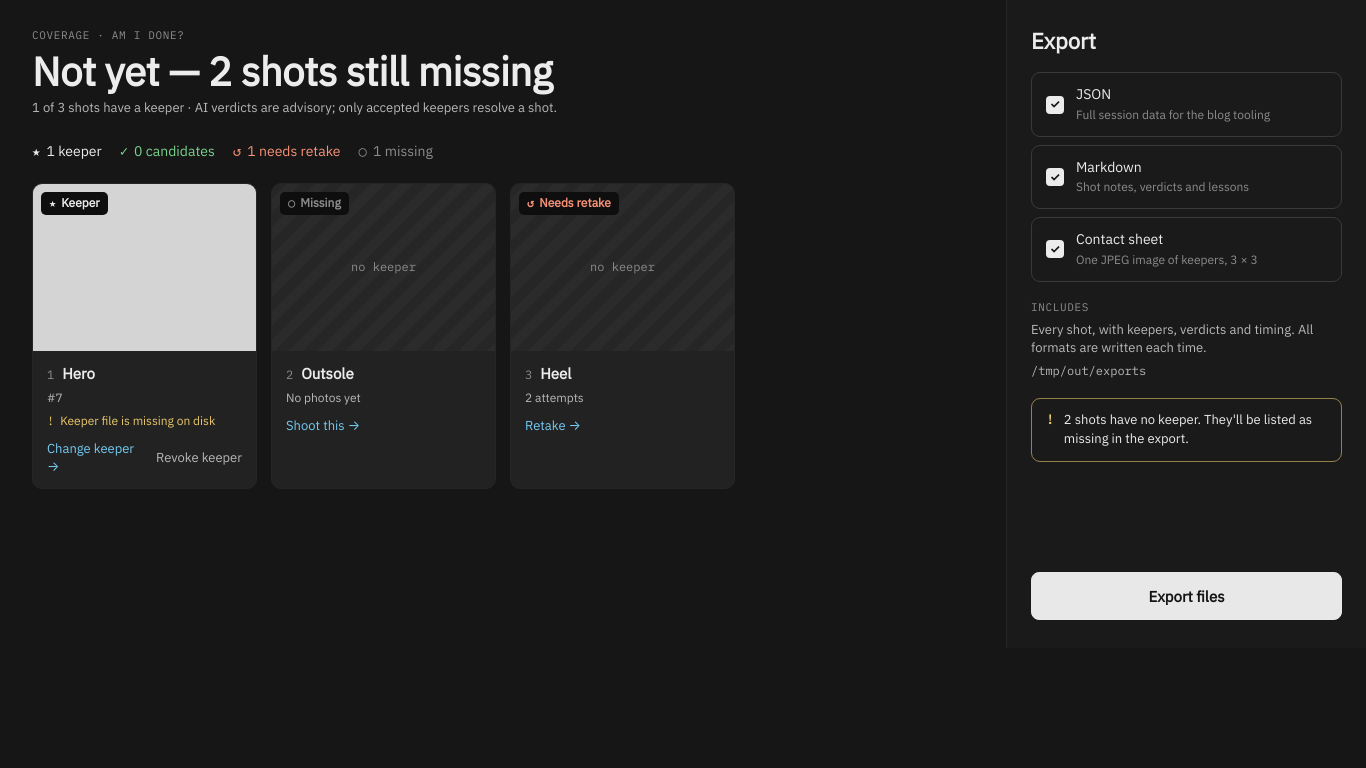
CoverageTab › lists the files the export wrote
Click the button "Export files": point(1186, 596) [1031,572,1342,620]
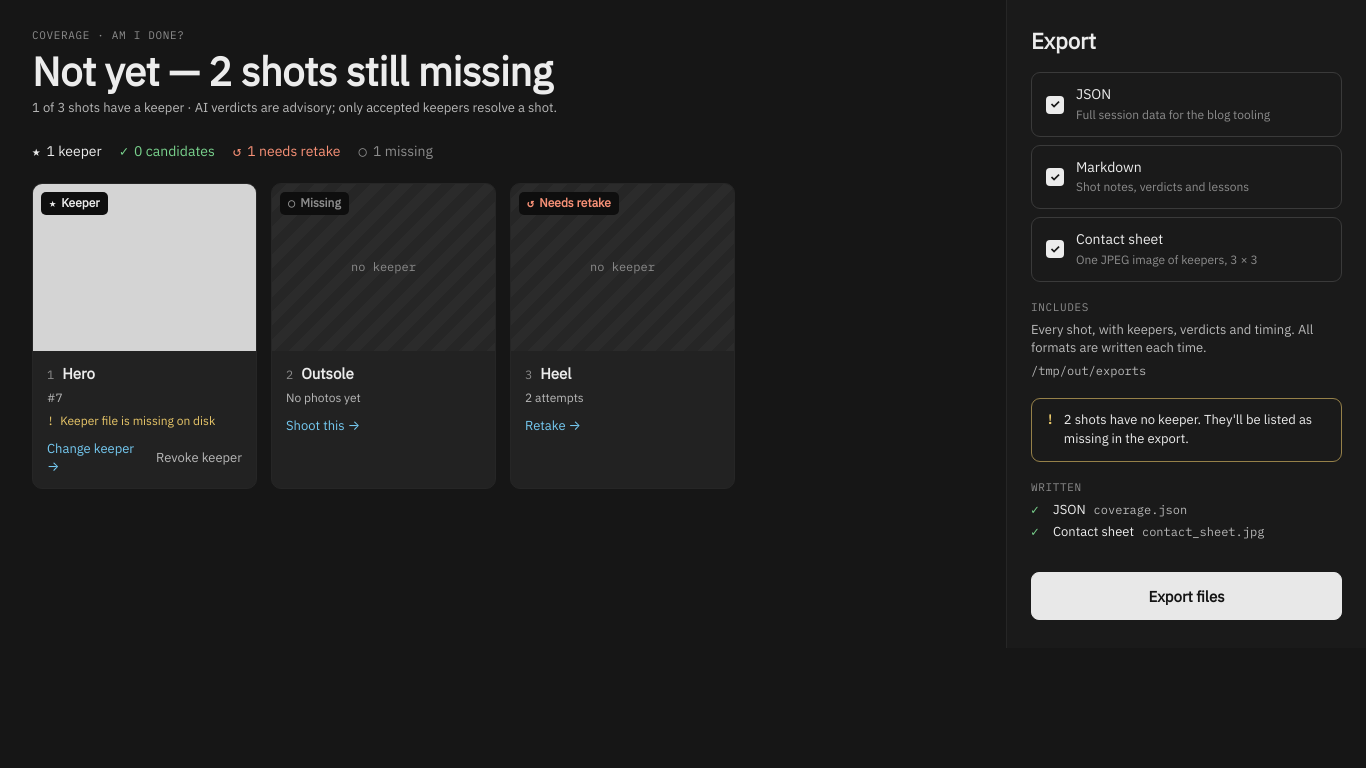
Check: the message shows "JSON", box [1053,501,1086,518]
Check: the message shows "coverage.json", box [1094,502,1187,517]
Check: the message shows "Contact sheet", box [1053,523,1134,540]
